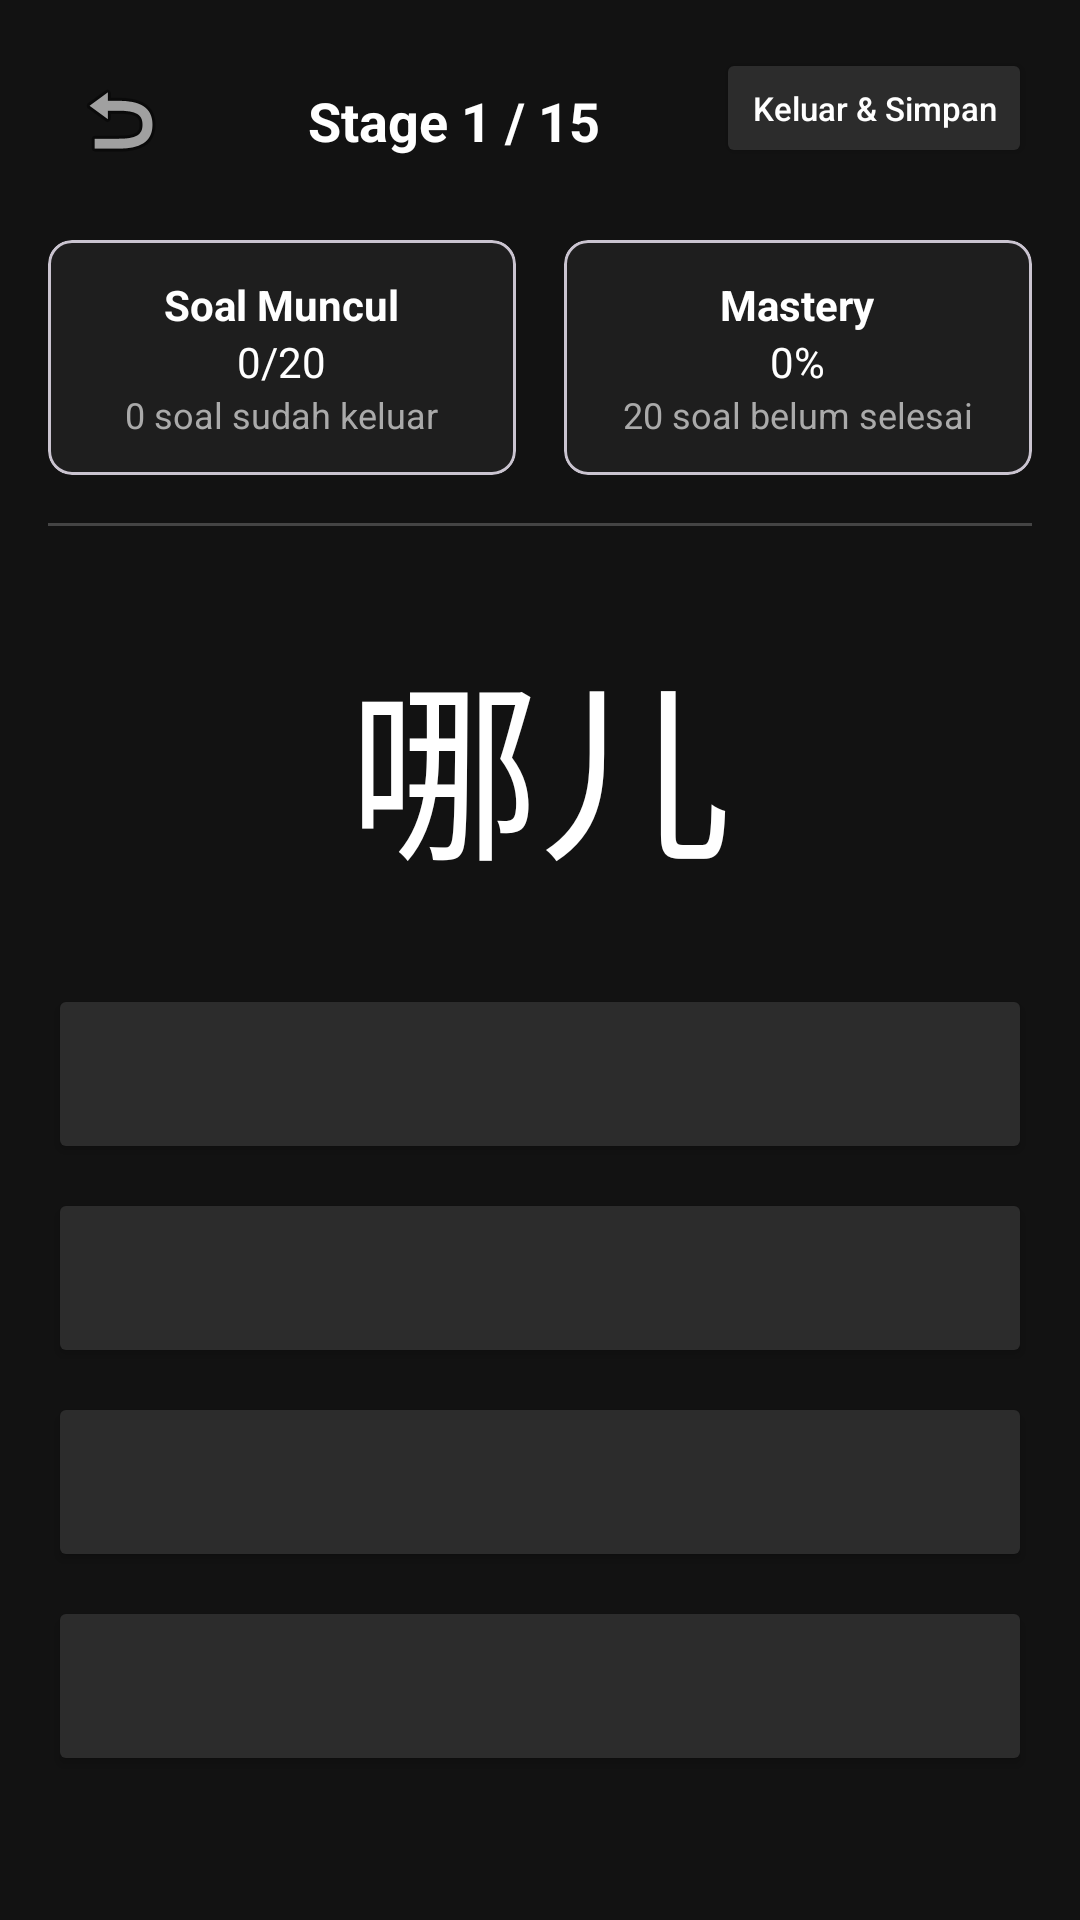

Where icons sit on this 1080 × 1920 app screen, as box(x1, y1, x2, y2):
Back: box(90, 92, 153, 149)
